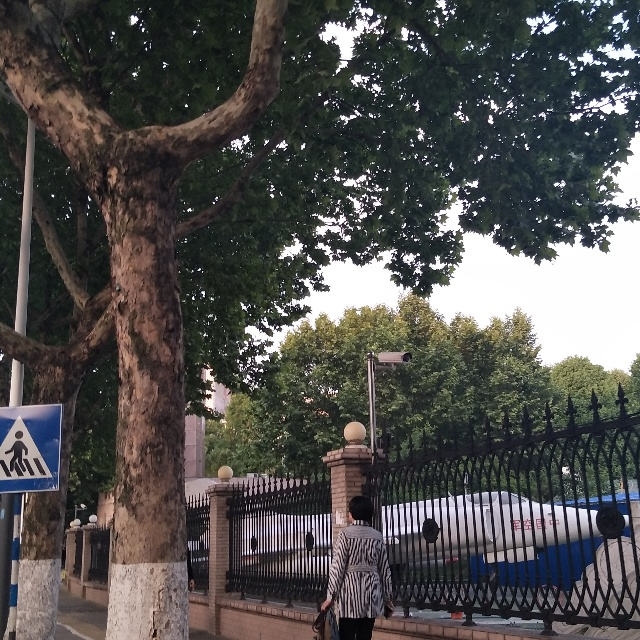crosswalk: (3, 418, 55, 491)
